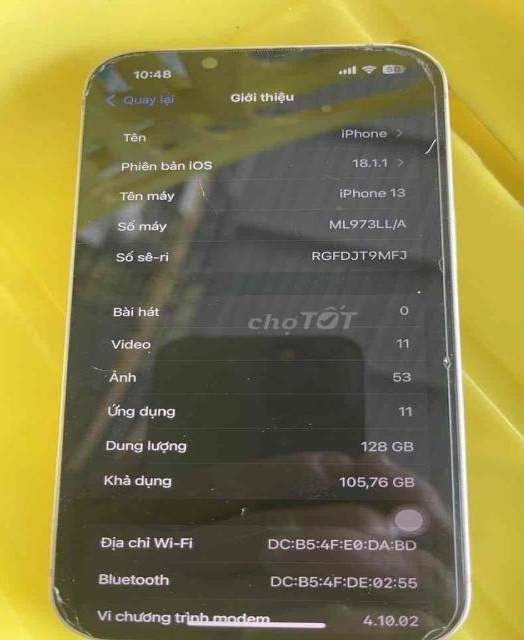physical_damage: (330, 32, 464, 168), (353, 573, 459, 639), (69, 37, 137, 111), (36, 567, 106, 637), (416, 318, 462, 378)
